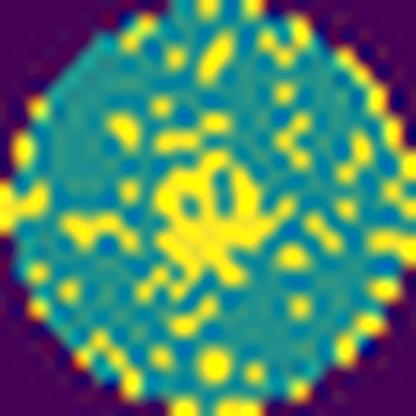Center: (123, 154, 303, 310)
